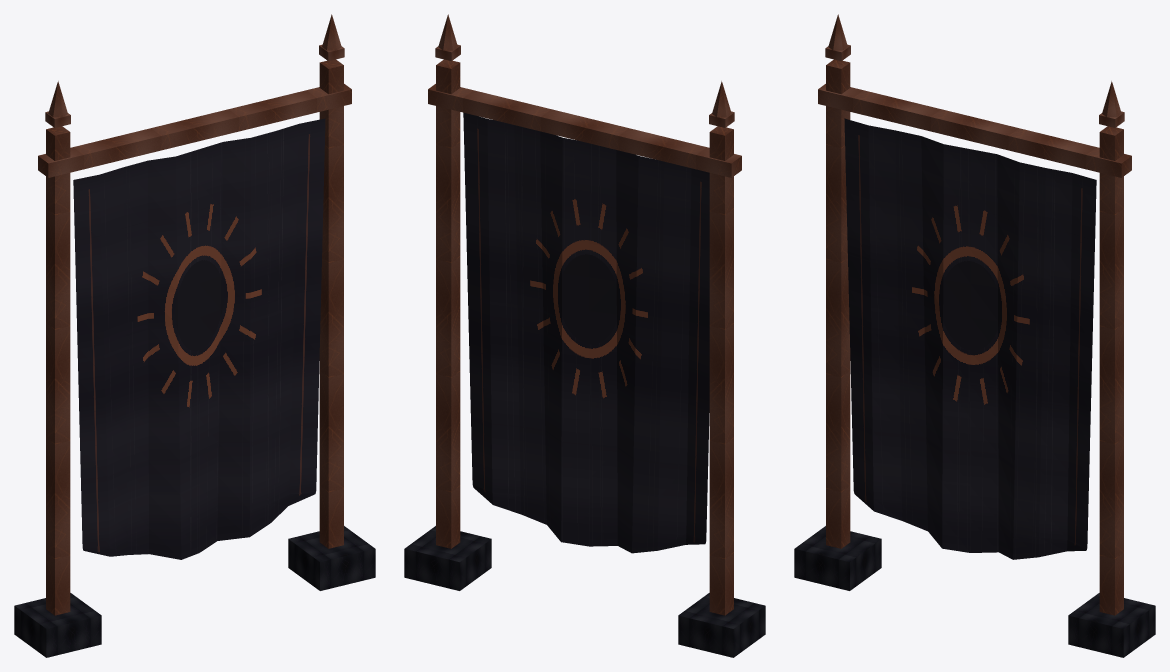
The model's file is blackstone-banner.glb.
The picture shows the model from 3 angles, left to right: view 1: azimuth 30°, elevation 25°; view 2: azimuth 150°, elevation 25°; view 3: azimuth 330°, elevation 25°; orthographic projection.
Visible parts, largest first — view 1: Banner_Cloth, Banner_Pole_L, Banner_Pole_R, Banner_Crossbar, Banner_Foot_L, Banner_Foot_R; view 2: Banner_Cloth, Banner_Pole_L, Banner_Pole_R, Banner_Crossbar, Banner_Foot_L, Banner_Foot_R; view 3: Banner_Cloth, Banner_Pole_R, Banner_Pole_L, Banner_Crossbar, Banner_Foot_R, Banner_Foot_L.
Boxes of the visible parts, box(x1,y1,x2,y2) form: Banner_Cloth: box(73, 118, 325, 559); Banner_Pole_L: box(46, 126, 70, 615); Banner_Pole_R: box(319, 59, 343, 548); Banner_Crossbar: box(38, 84, 351, 177); Banner_Foot_L: box(14, 593, 101, 657); Banner_Foot_R: box(288, 526, 375, 590); Banner_Cloth: box(463, 112, 709, 553); Banner_Pole_L: box(709, 126, 733, 615); Banner_Pole_R: box(436, 59, 460, 548); Banner_Crossbar: box(428, 84, 741, 177); Banner_Foot_L: box(678, 593, 765, 657); Banner_Foot_R: box(404, 526, 491, 590); Banner_Cloth: box(844, 118, 1096, 559); Banner_Pole_R: box(1099, 126, 1123, 615); Banner_Pole_L: box(826, 59, 850, 548); Banner_Crossbar: box(818, 84, 1131, 177); Banner_Foot_R: box(1068, 593, 1155, 657); Banner_Foot_L: box(794, 526, 881, 590).
Bounding box in the file's own units: 4.28 × 6.94 × 0.72.
Materials: 3 (3 with a texture image).
